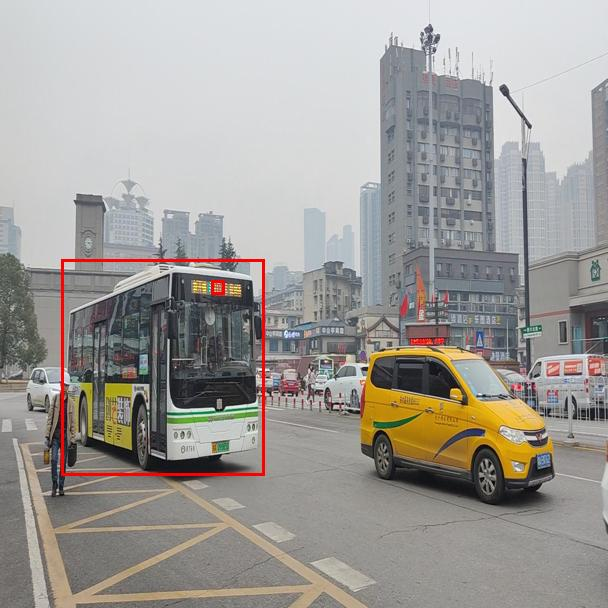bus: (61, 259, 264, 475)
screen: (211, 280, 224, 294)
